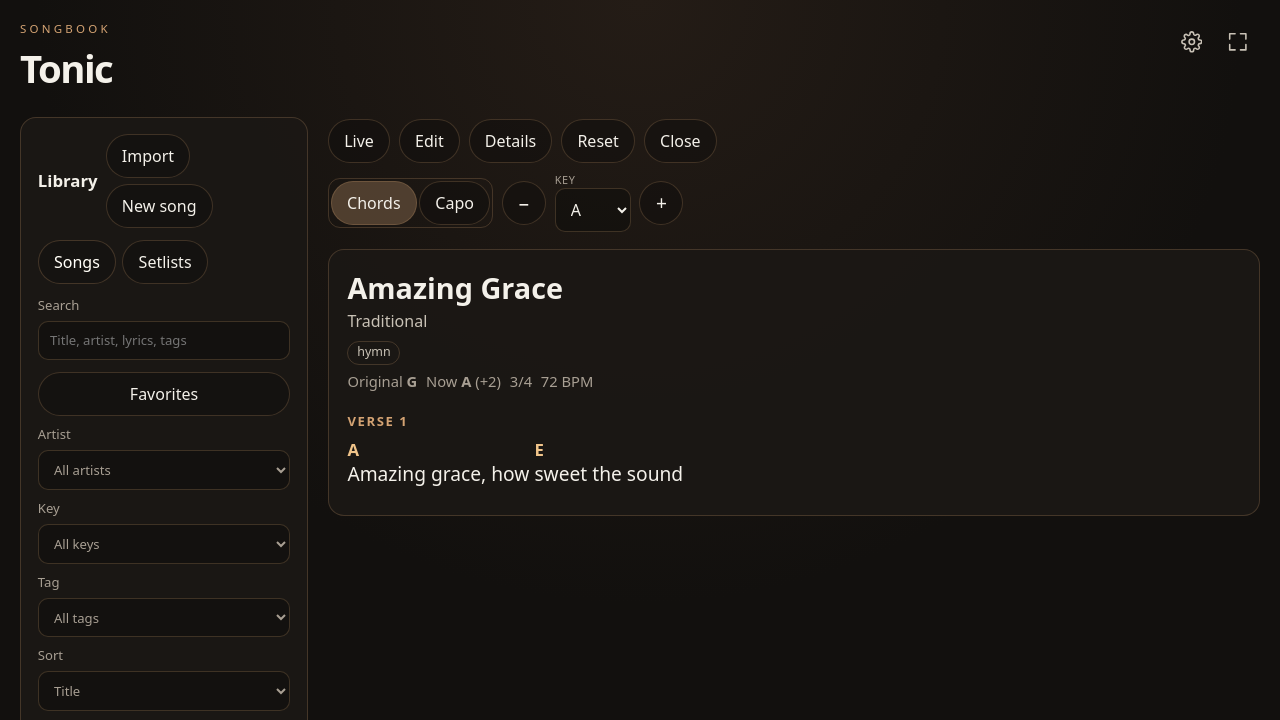
App › switches transpose to capo without rewriting chord names
Expected: the heading "Amazing Grace" is shown, [347,266,563,310]
Click the button "Capo".
click(455, 203)  # box [419,181,490,225]
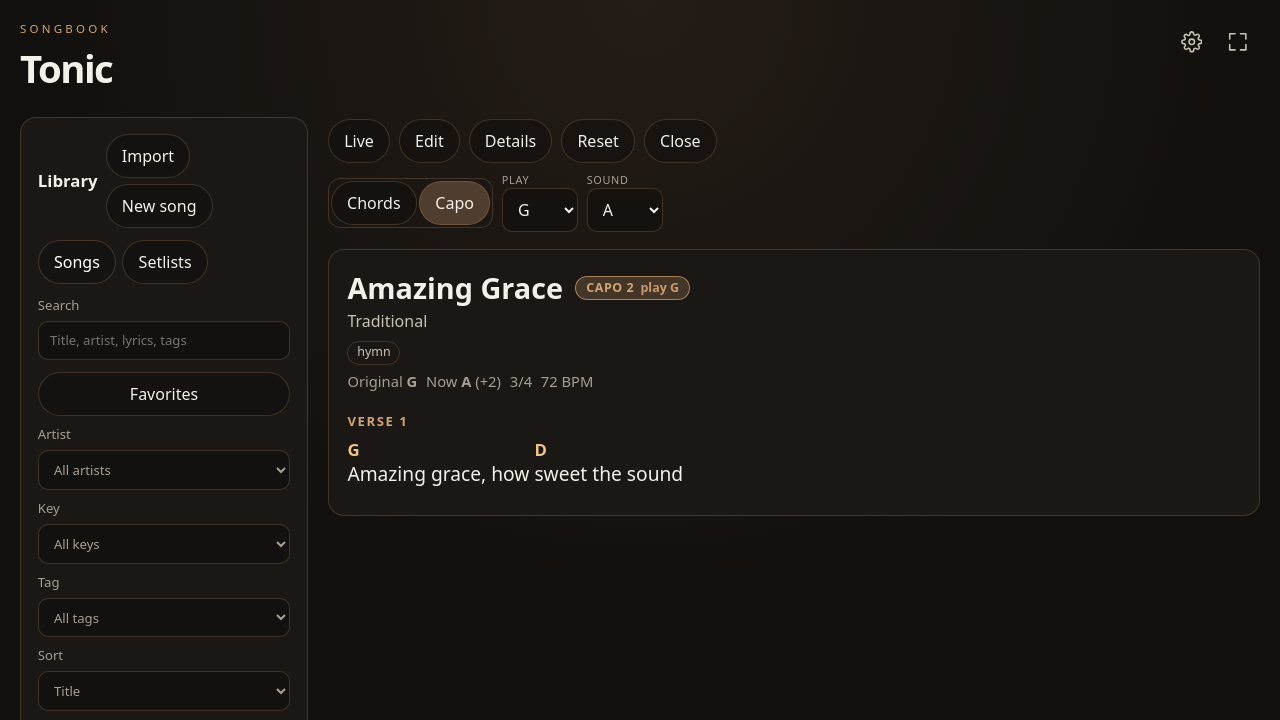
Expected: the element titled "Capo 2, play G shapes" is shown, [575,276,690,300]
Expected: the text titled "G (sounds A)" below "Verse 1" is shown, [347,441,360,462]
